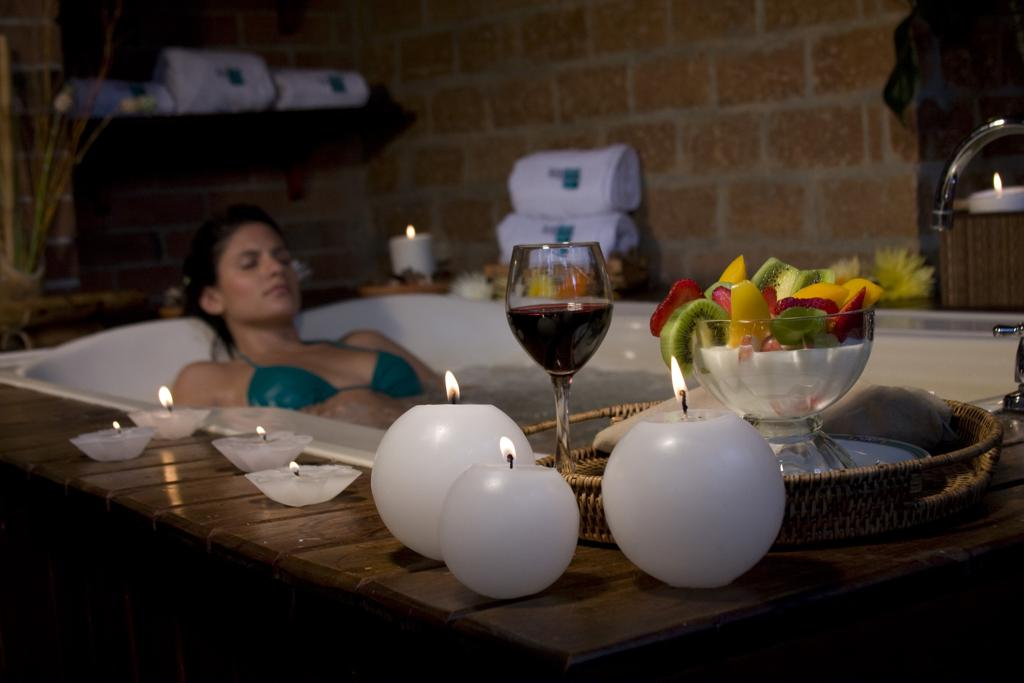face: (216, 230, 304, 316)
